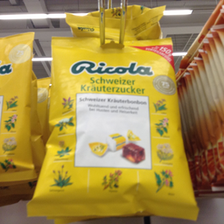candy: (47, 34, 180, 214)
